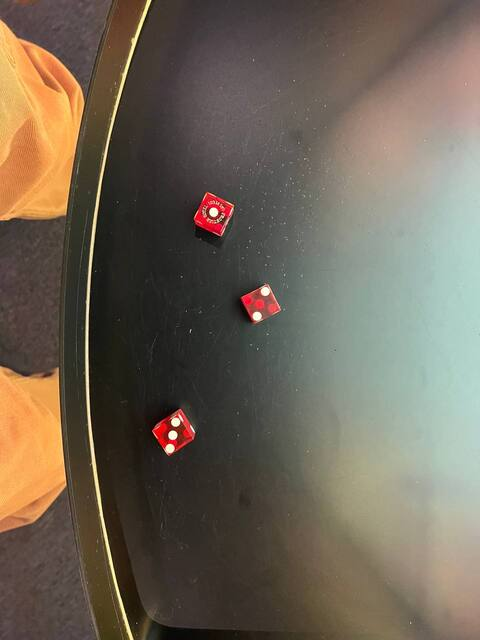one: (191, 191, 235, 234)
three: (150, 413, 198, 457)
two: (239, 280, 283, 324)
